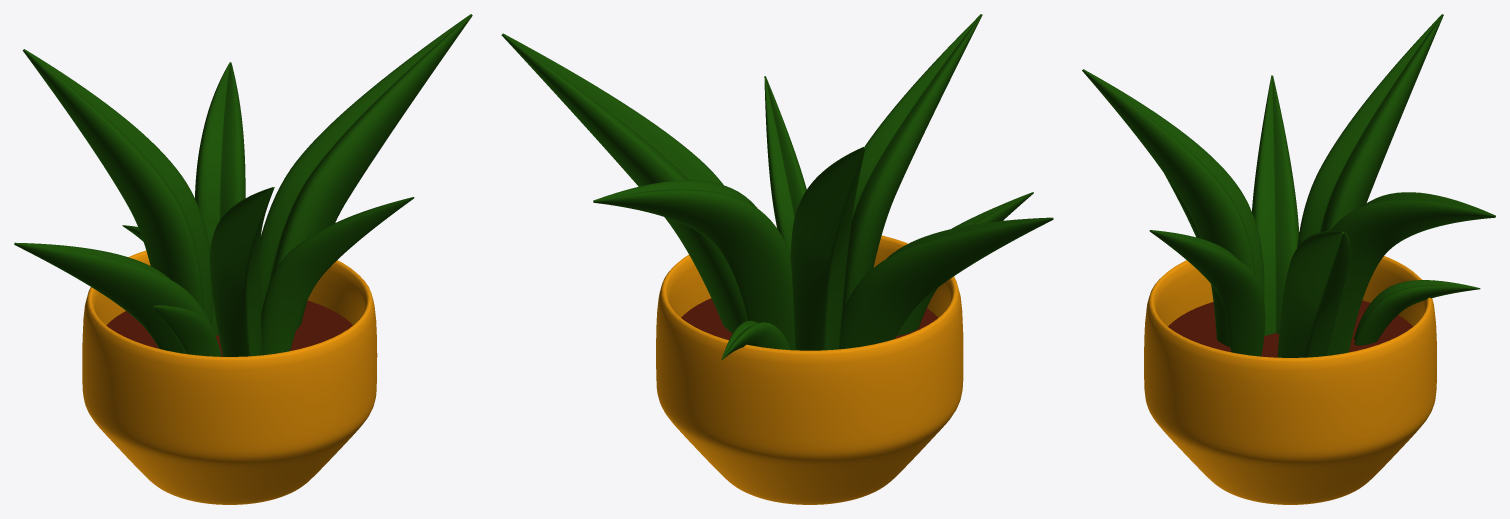
The model's file is model_Classic_Plant.fbx.
3 renders of one model, left to right at view 1: azimuth 30°, elevation 25°; view 2: azimuth 150°, elevation 25°; view 3: azimuth 270°, elevation 25°, orthographic. The views are drawn at different scales.
Visible parts, largest first — view 1: Vert, Circle; view 2: Vert, Circle; view 3: Vert, Circle.
Part boxes in pixels (bbox=[...]): Vert: bbox=[14, 14, 472, 504]; Circle: bbox=[106, 300, 352, 356]; Vert: bbox=[501, 14, 1053, 504]; Circle: bbox=[681, 298, 937, 340]; Vert: bbox=[1082, 14, 1495, 504]; Circle: bbox=[1168, 300, 1412, 357].
Bounding box in the file's own units: 408 × 316 × 298.
